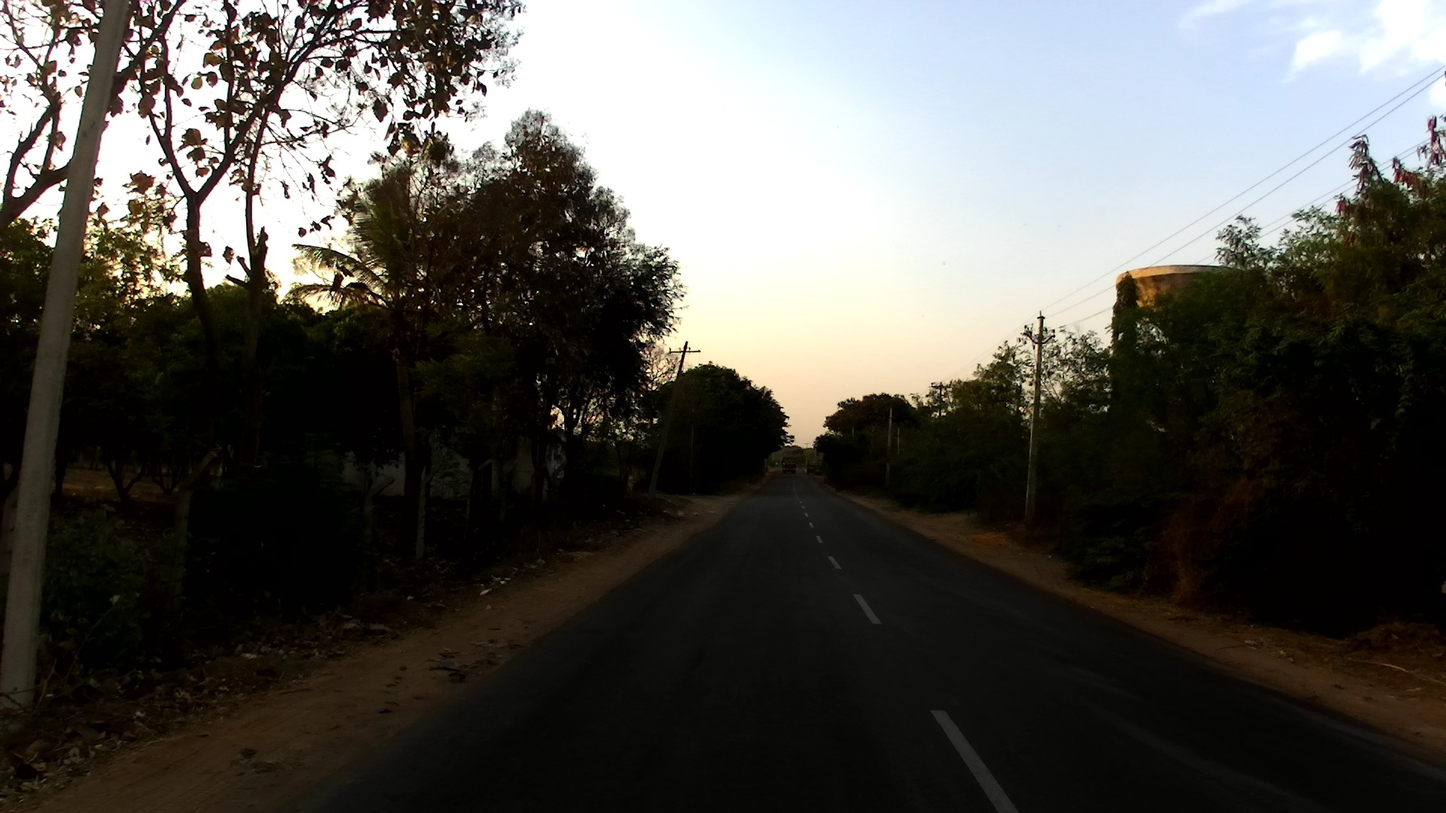autorickshaw: (813, 464, 825, 477)
truck: (780, 455, 798, 474), (805, 460, 819, 474)
